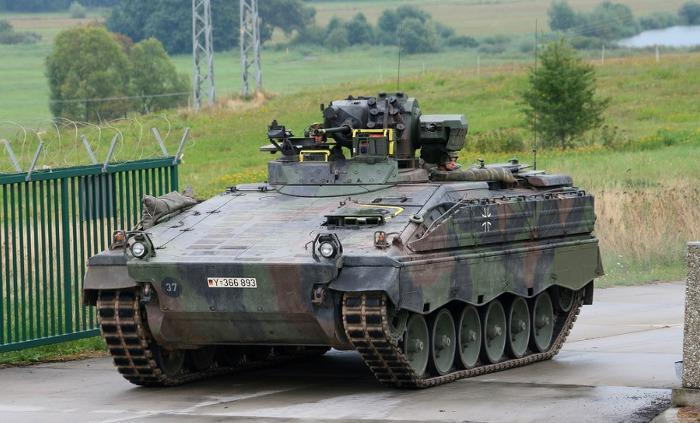MIL_IFV: (84, 90, 600, 396)
